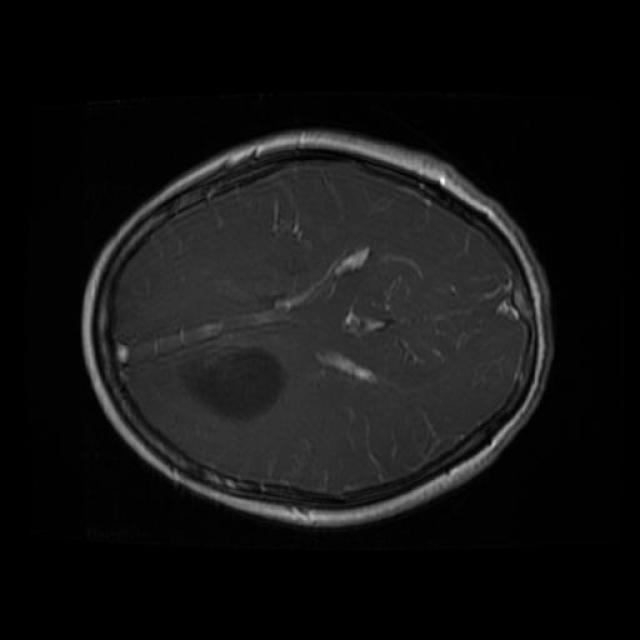Glioma: (181, 347, 284, 420)
